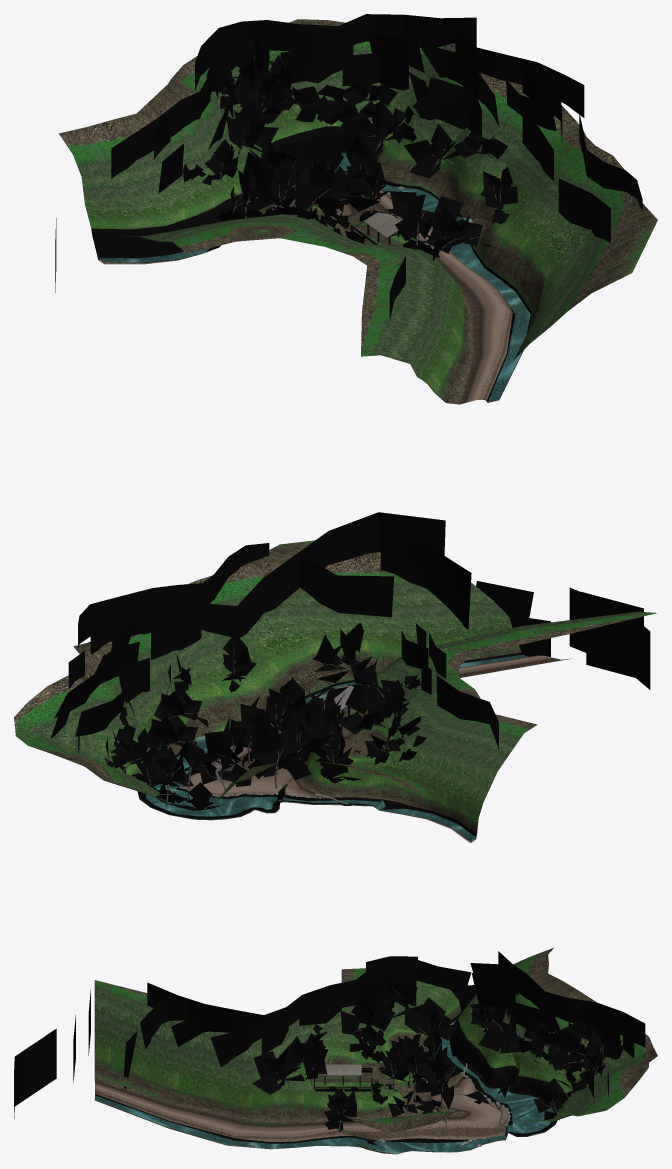
The model's file is river_scene.glb.
3 renders of one model, top to bottom at view 1: azimuth 30°, elevation 25°; view 2: azimuth 150°, elevation 25°; view 3: azimuth 270°, elevation 25°, orthographic. The views are drawn at different scales.
Visible parts, largest first — view 1: BackSide_1, FrontSide_0, FrontSide_23, FrontSide_25, BackSide_2, FrontSide_22; view 2: BackSide_1, FrontSide_0, FrontSide_25, FrontSide_23, BackSide_2, FrontSide_22; view 3: BackSide_1, FrontSide_0, FrontSide_23, FrontSide_25, BackSide_2, FrontSide_22, FrontSide_1, FrontSide_21, FrontSide_12.
Boxes of the visible parts, <box> form: BackSide_1: <box>55,14,642,402</box>; FrontSide_0: <box>59,19,657,404</box>; FrontSide_23: <box>317,189,512,404</box>; FrontSide_25: <box>99,153,530,401</box>; BackSide_2: <box>103,153,530,400</box>; FrontSide_22: <box>214,53,503,253</box>; BackSide_1: <box>51,512,650,841</box>; FrontSide_0: <box>14,540,656,838</box>; FrontSide_25: <box>140,655,527,840</box>; FrontSide_23: <box>181,655,561,797</box>; BackSide_2: <box>146,655,527,833</box>; FrontSide_22: <box>105,641,406,807</box>; BackSide_1: <box>14,951,645,1152</box>; FrontSide_0: <box>94,948,657,1154</box>; FrontSide_23: <box>94,1076,508,1141</box>; FrontSide_25: <box>95,1021,554,1153</box>; BackSide_2: <box>95,1021,551,1153</box>; FrontSide_22: <box>272,1000,607,1132</box>; FrontSide_1: <box>372,1038,464,1117</box>; FrontSide_21: <box>323,1063,467,1077</box>; FrontSide_12: <box>94,1100,551,1154</box>.
Size of the model in its own units: 639 by 194 by 827.
29 materials, 29 textured.
